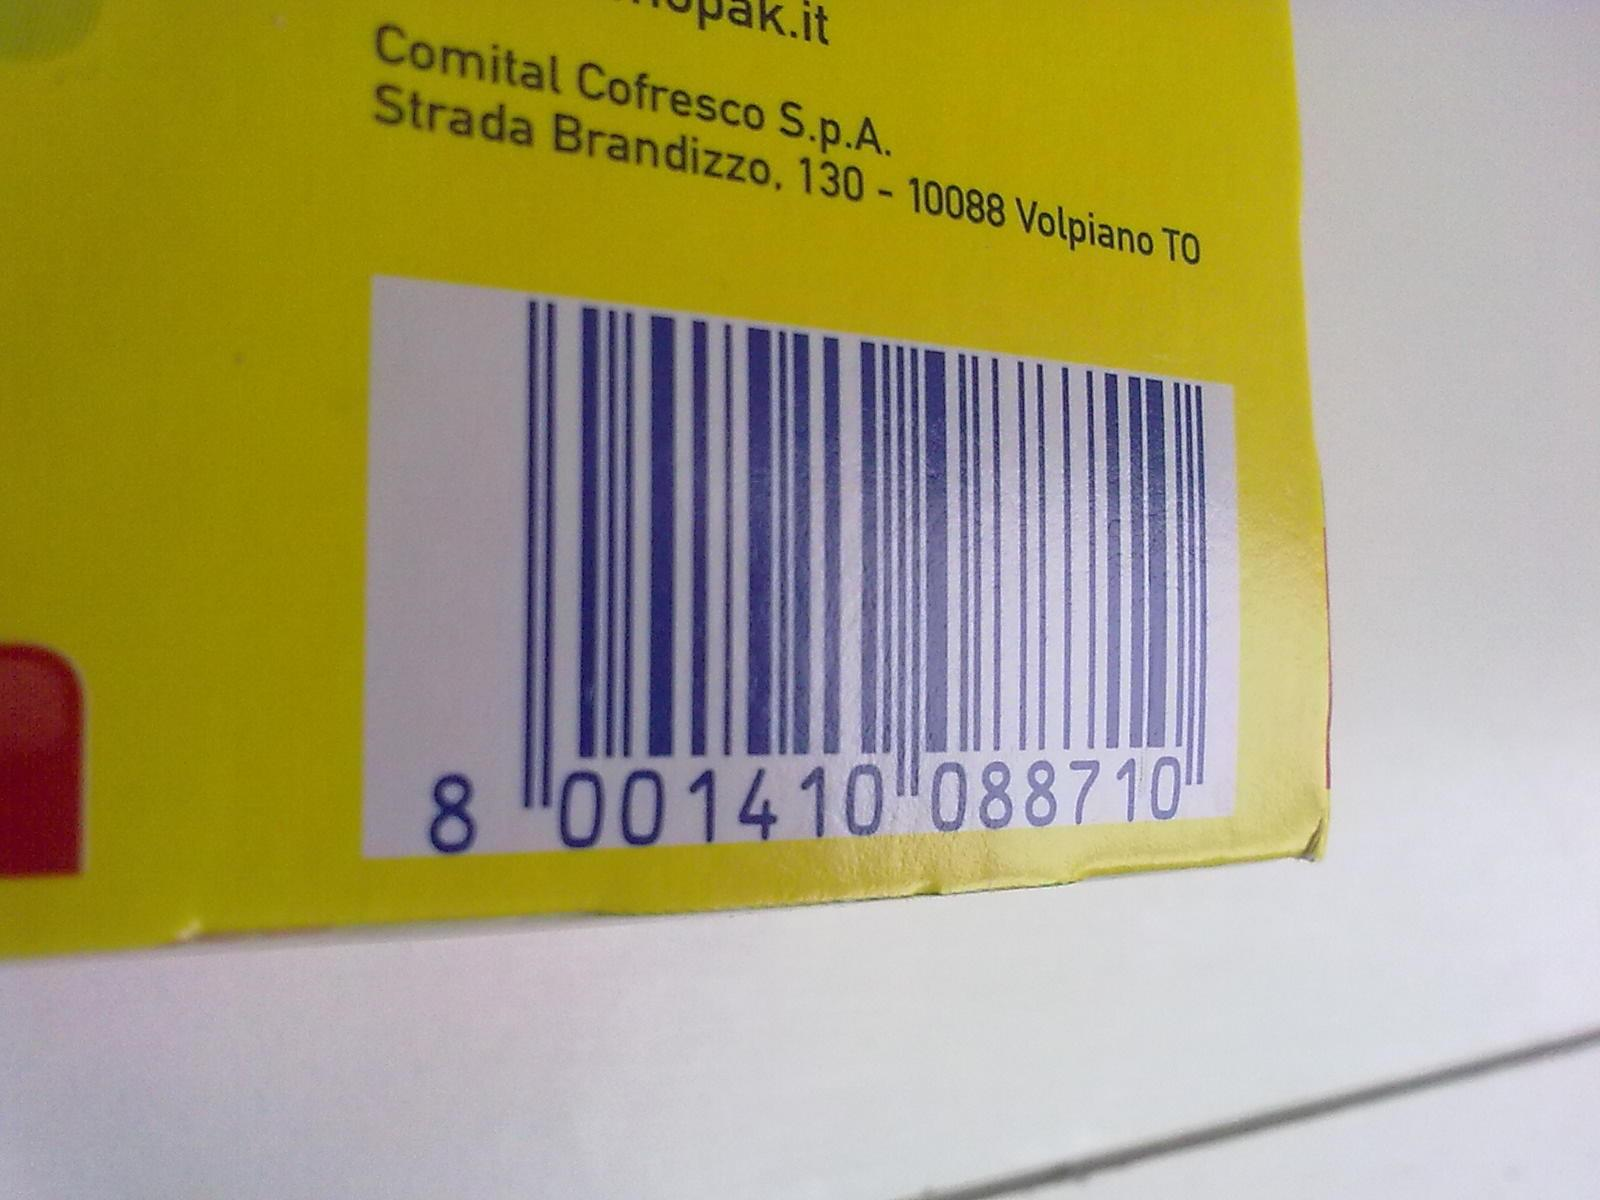Barcode: (365, 266, 1237, 863)
